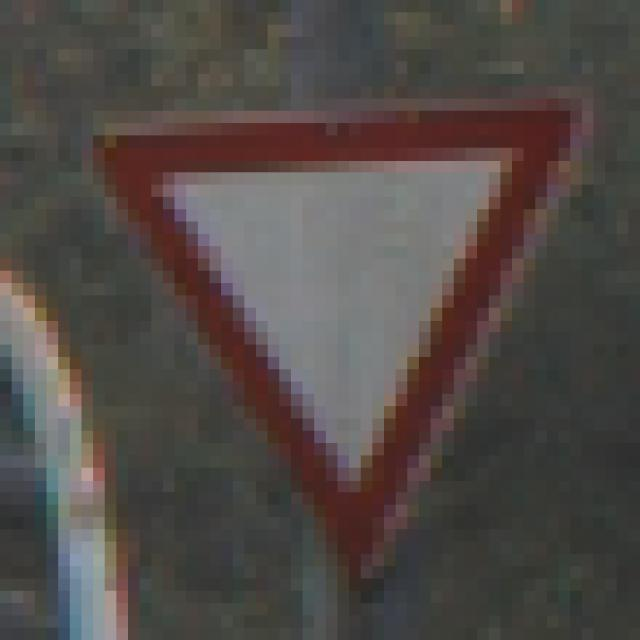Give Way: (71, 75, 583, 579)
